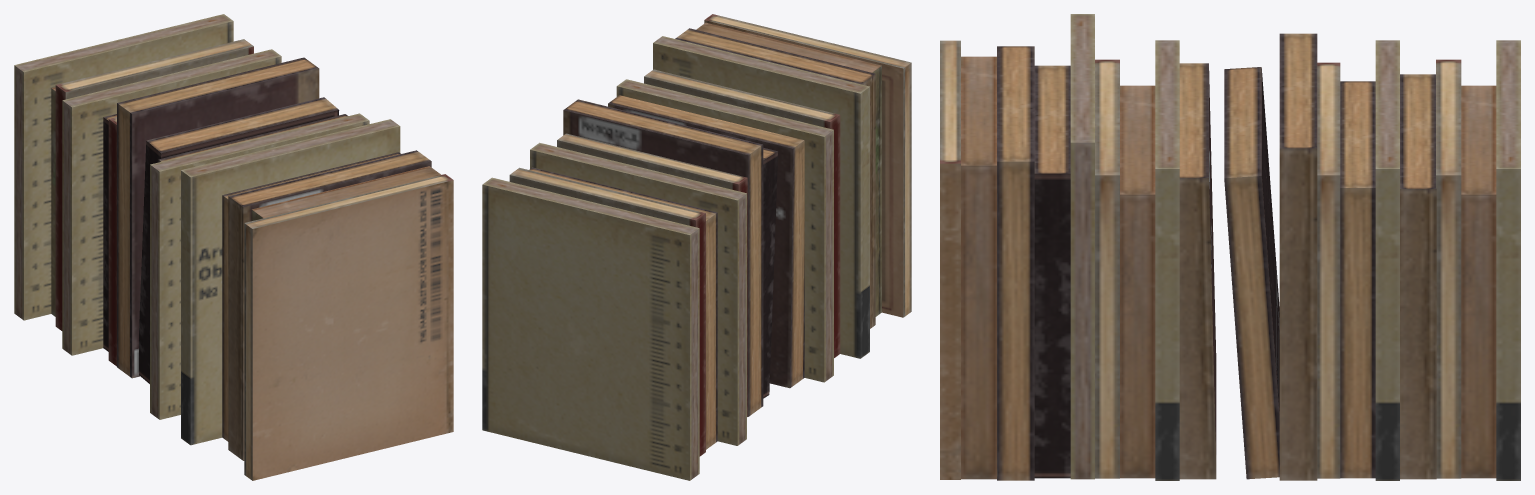
File: HH_Stacked_Books_04.fbx
3 renders of one model, left to right at view 1: azimuth 30°, elevation 25°; view 2: azimuth 150°, elevation 25°; view 3: azimuth 270°, elevation 25°, orthographic. The views are drawn at different scales.
Parts seen in each view (by area): view 1: HH_Stacked_Books_04; view 2: HH_Stacked_Books_04; view 3: HH_Stacked_Books_04.
Part boxes in pixels (x1,y1,x2,y2): HH_Stacked_Books_04: (14, 14, 453, 480); HH_Stacked_Books_04: (482, 14, 911, 480); HH_Stacked_Books_04: (940, 14, 1520, 480).
Size of the model in its own units: 21.14 by 25.47 by 39.81.
